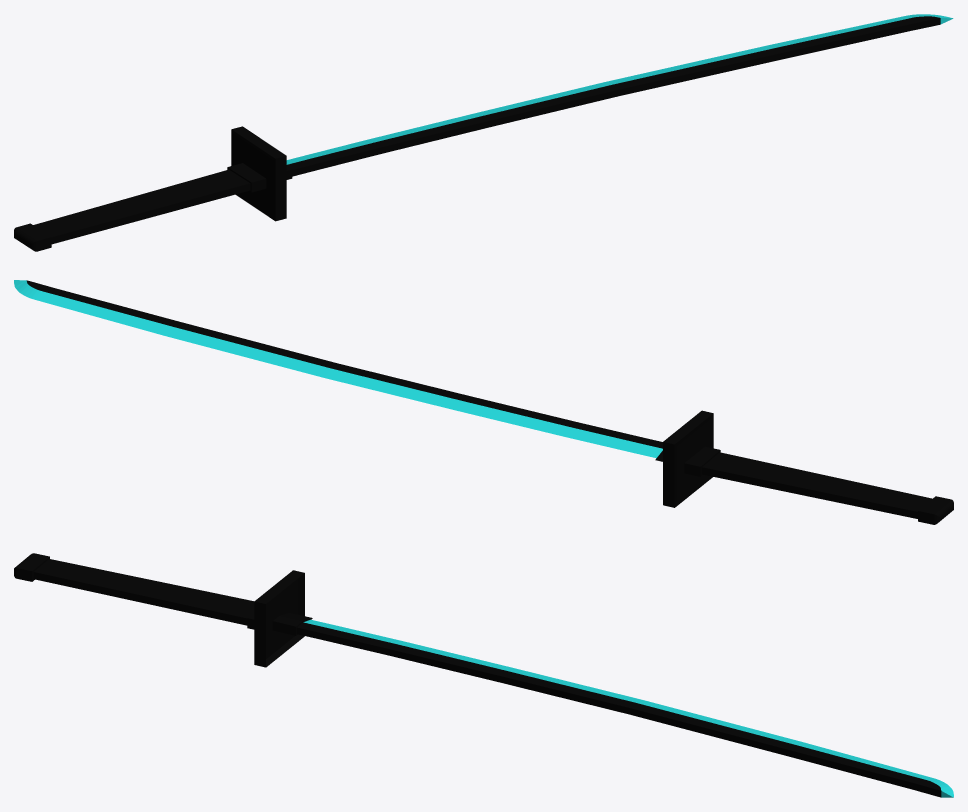
File: Black-Neon-Blue.fbx
The picture shows the model from 3 angles, top to bottom: view 1: azimuth 30°, elevation 25°; view 2: azimuth 150°, elevation 25°; view 3: azimuth 330°, elevation 25°; orthographic projection.
Parts seen in each view (by area): view 1: Cube; view 2: Cube; view 3: Cube.
Part boxes in pixels (box(x1,y1,x2,y2)): Cube: box(14, 14, 953, 251); Cube: box(14, 280, 953, 524); Cube: box(14, 553, 953, 797).
Bounding box in the file's own units: 139 × 8.94 × 10.73.
